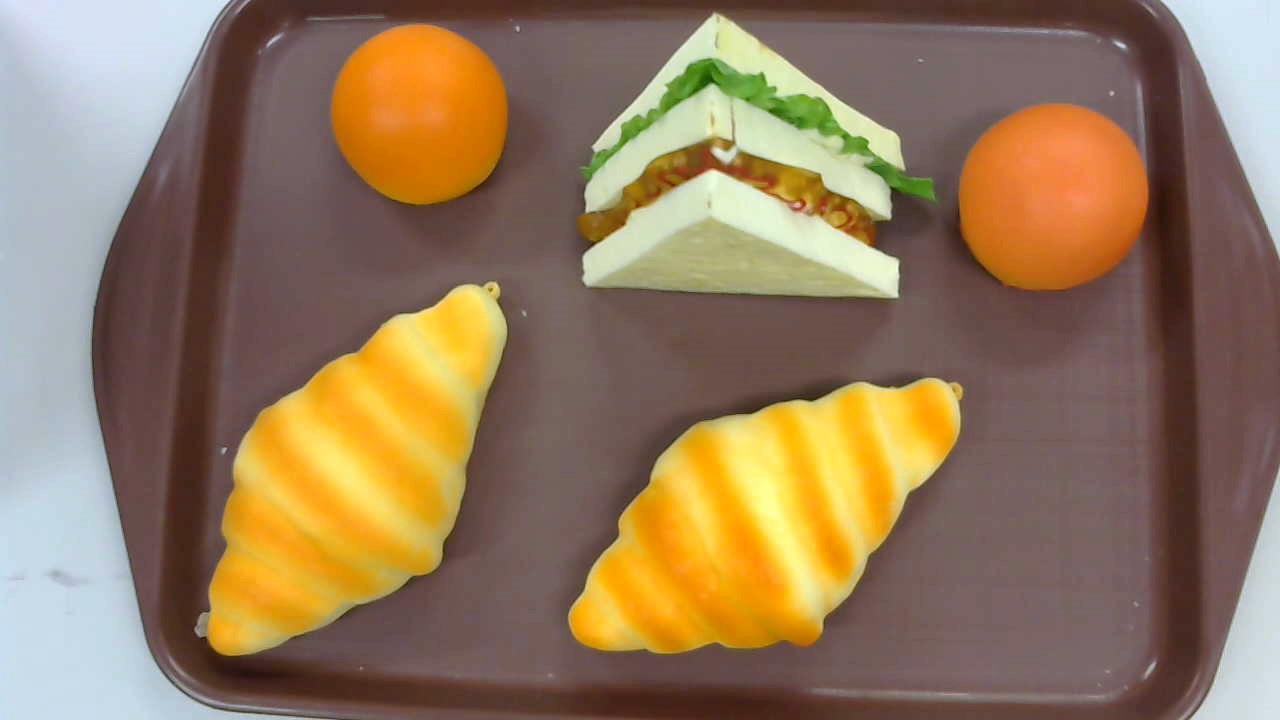bun: (959, 102, 1148, 293), (329, 22, 508, 206)
croissant: (206, 282, 508, 657), (567, 377, 963, 656)
sandwich: (576, 11, 936, 299)
